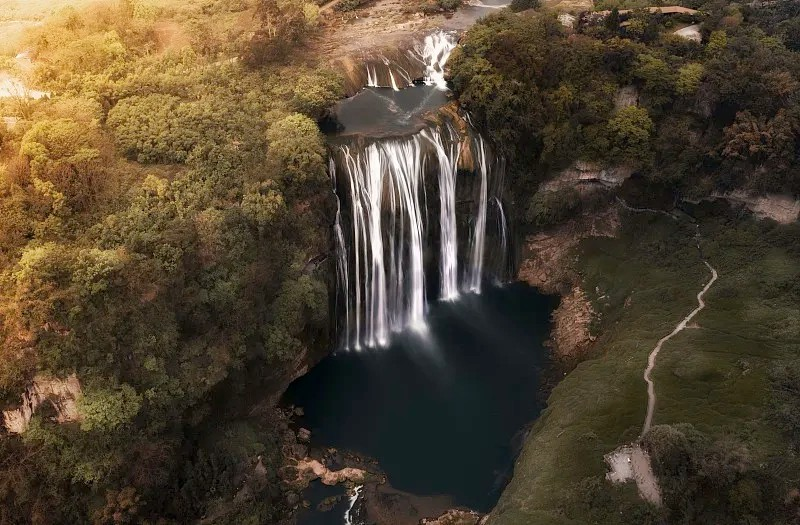Huangguoshu: (329, 40, 508, 351)
